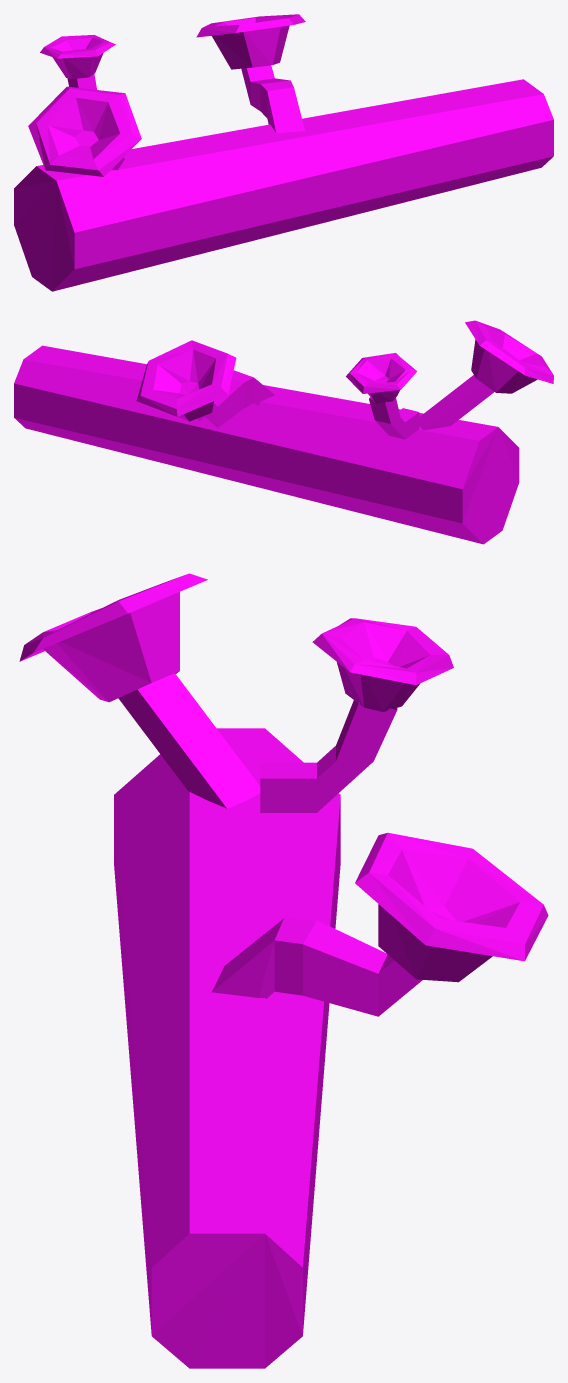
The model's file is totemtreerotten4.obj.
3 renders of one model, top to bottom at view 1: azimuth 30°, elevation 25°; view 2: azimuth 150°, elevation 25°; view 3: azimuth 270°, elevation 25°, orthographic. The views are drawn at different scales.
Parts seen in each view (by area): view 1: totemtreerotten4_back; view 2: totemtreerotten4_back; view 3: totemtreerotten4_back.
Part boxes in pixels (x1,y1,x2,y2): totemtreerotten4_back: (14, 14, 553, 291); totemtreerotten4_back: (14, 320, 553, 544); totemtreerotten4_back: (19, 573, 548, 1368).
Size of the model in its own units: 2.39 by 0.87 by 1.12.
